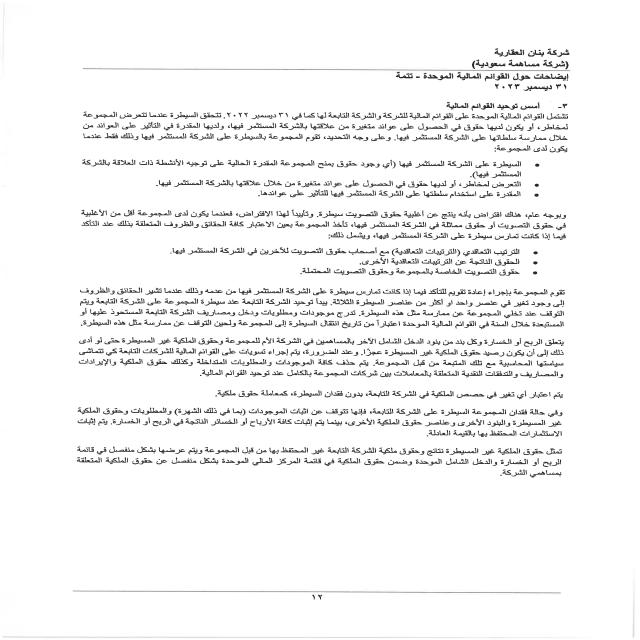notes: (390, 73, 574, 80)
text: (42, 98, 582, 496)
